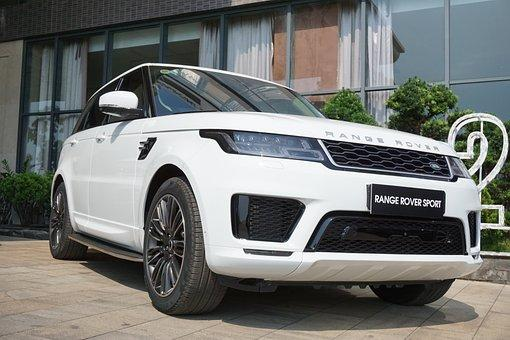range rover: (320, 127, 444, 157)
